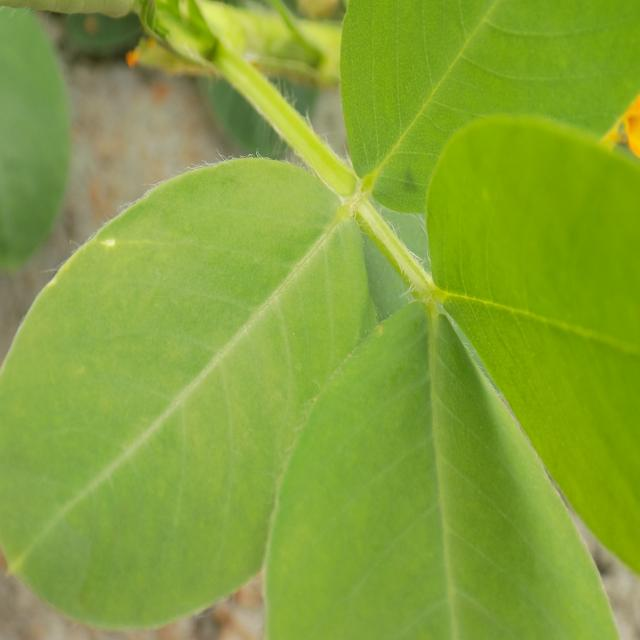Ground nut_healthy: (0, 153, 367, 634)
